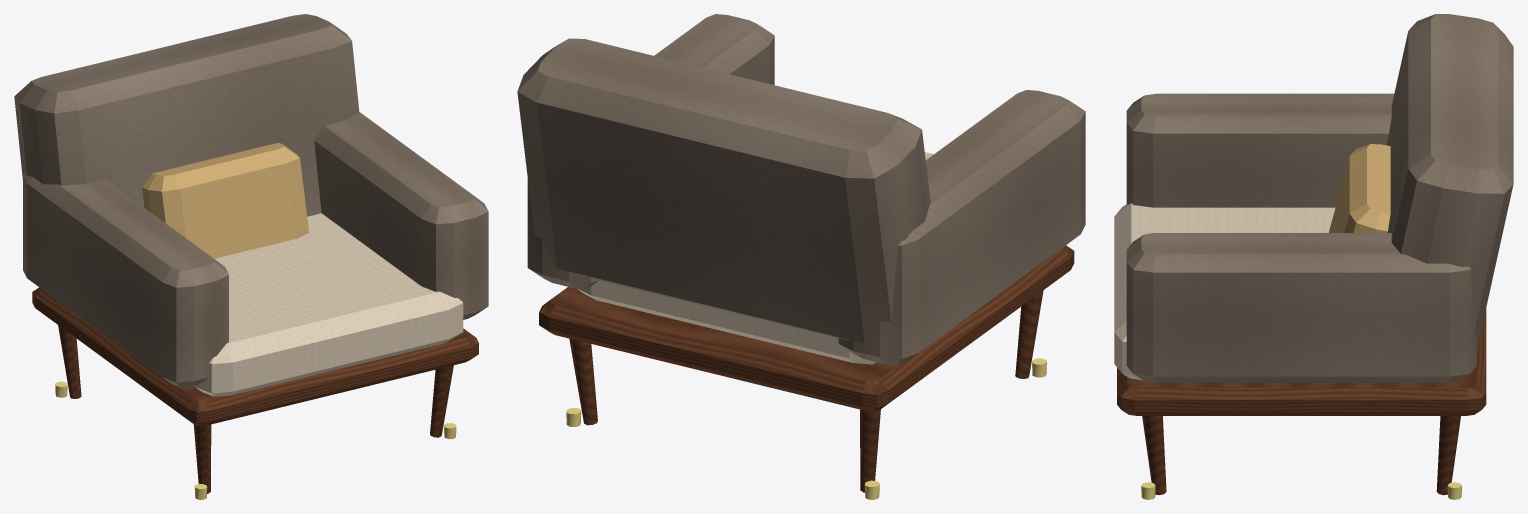
File: armchair_lounge.glb
3 renders of one model, left to right at view 1: azimuth 30°, elevation 25°; view 2: azimuth 150°, elevation 25°; view 3: azimuth 270°, elevation 25°, orthographic. The views are drawn at different scales.
Visible parts, largest first — view 1: armchair_lounge_fabricVelvet, armchair_lounge_fabricLinen, armchair_lounge_woodWalnut, armchair_lounge_pillowMustard, armchair_lounge_metalBrass; view 2: armchair_lounge_fabricVelvet, armchair_lounge_woodWalnut, armchair_lounge_fabricLinen, armchair_lounge_metalBrass; view 3: armchair_lounge_fabricVelvet, armchair_lounge_woodWalnut, armchair_lounge_fabricLinen, armchair_lounge_pillowMustard, armchair_lounge_metalBrass.
Part boxes in pixels (bbox=[...]): armchair_lounge_fabricVelvet: bbox=[14, 14, 488, 387]; armchair_lounge_fabricLinen: bbox=[193, 213, 463, 396]; armchair_lounge_woodWalnut: bbox=[32, 287, 478, 493]; armchair_lounge_pillowMustard: bbox=[142, 142, 308, 258]; armchair_lounge_metalBrass: bbox=[55, 381, 456, 499]; armchair_lounge_fabricVelvet: bbox=[517, 14, 1085, 365]; armchair_lounge_woodWalnut: bbox=[539, 245, 1074, 492]; armchair_lounge_fabricLinen: bbox=[577, 152, 933, 364]; armchair_lounge_metalBrass: bbox=[566, 358, 1046, 499]; armchair_lounge_fabricVelvet: bbox=[1126, 14, 1513, 382]; armchair_lounge_woodWalnut: bbox=[1117, 308, 1486, 495]; armchair_lounge_fabricLinen: bbox=[1114, 203, 1335, 380]; armchair_lounge_pillowMustard: bbox=[1329, 144, 1390, 232]; armchair_lounge_metalBrass: bbox=[1141, 482, 1461, 499].
Size of what is drawn, in the model's own units: 0.84 by 0.78 by 0.82.
5 materials, 4 textured.
